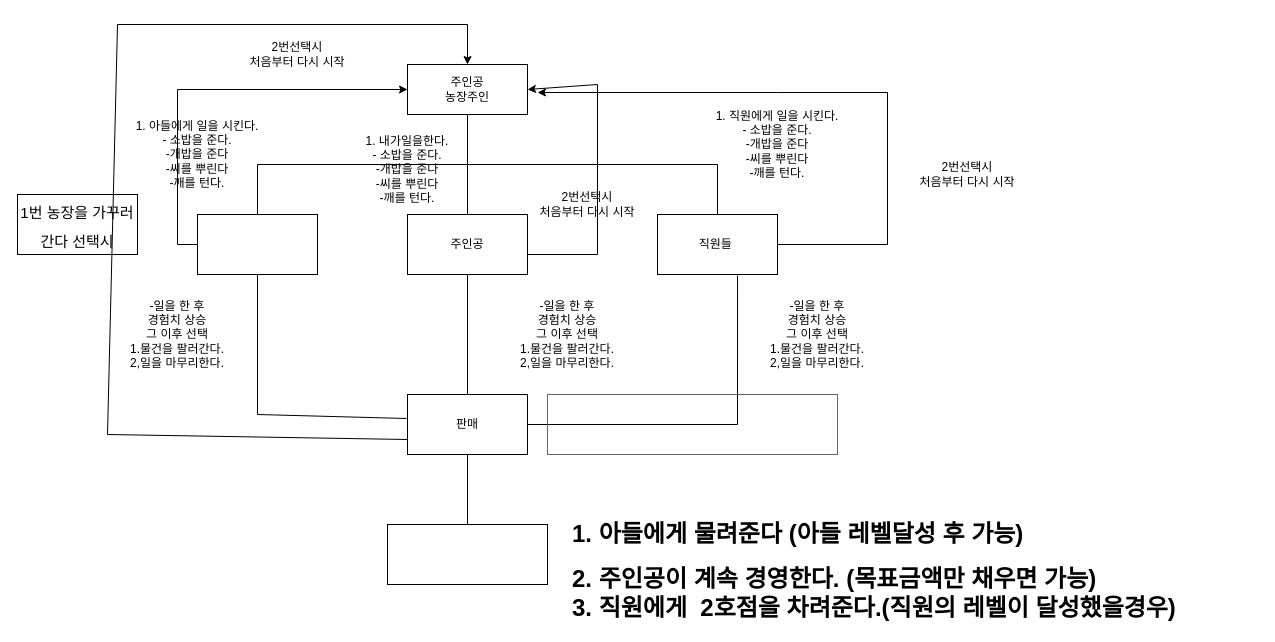
Image size: 1275x642. Some labels were removed from this diagram. The centre of each missing label's shape, as x and y in pixels:
1. 농장을 가꾸러 간다. 2. 졸업한다.: (x=692, y=424)
아들: (x=257, y=244)
졸업: (x=467, y=554)
